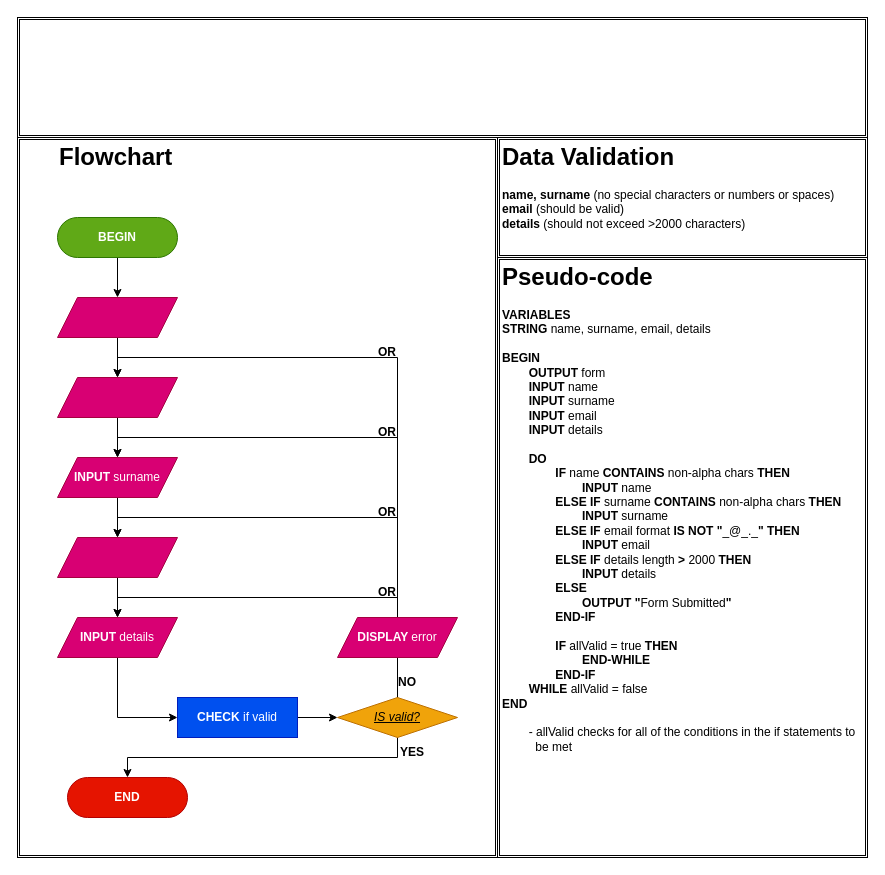
Image size: 885x875. Some labels were removed from this diagram. The centre of each missing label's shape, as x and y in pixels:
"DISPLAY form" belongs at point 117,317.
"Form Submission" belongs at point 442,77.
"INPUT email" belongs at point 117,557.
"INPUT name" belongs at point 117,397.
